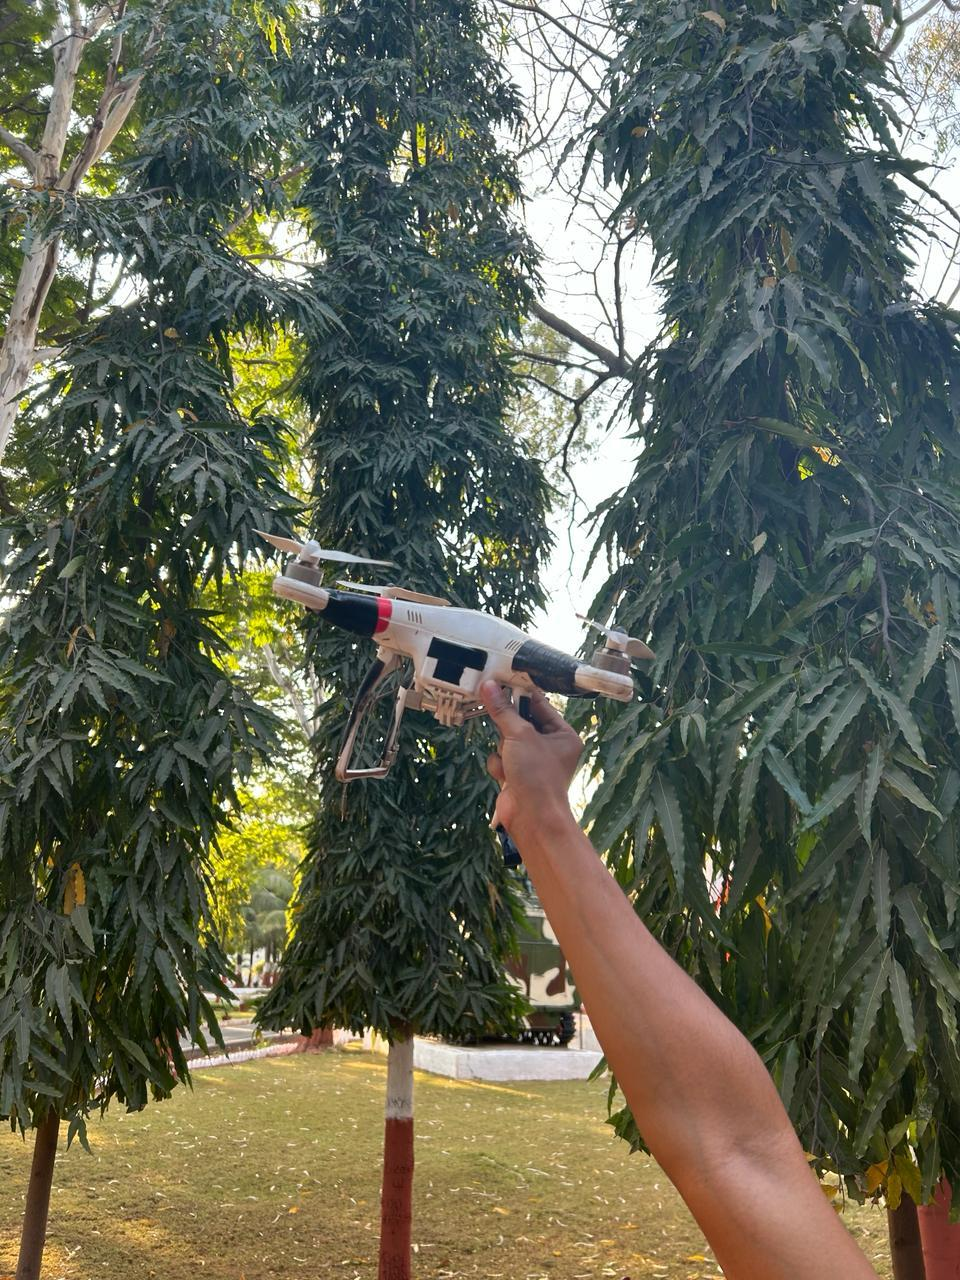drone: (194, 484, 711, 837)
